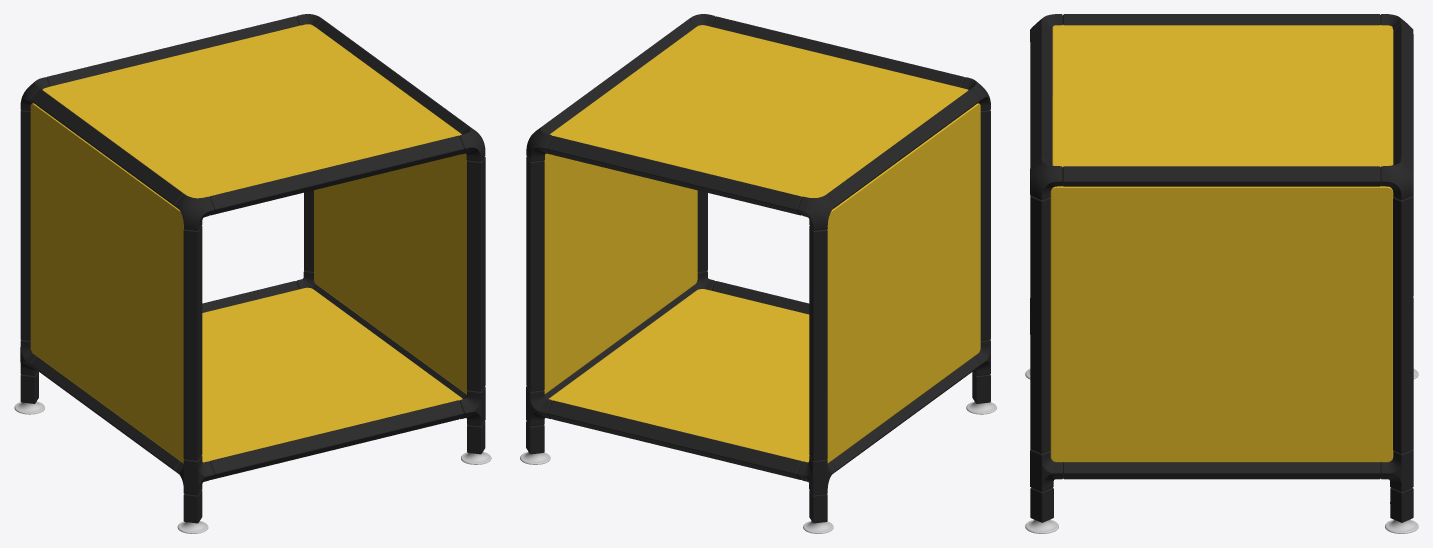
3 renders of one model, left to right at view 1: azimuth 30°, elevation 25°; view 2: azimuth 150°, elevation 25°; view 3: azimuth 270°, elevation 25°, orthographic. The views are drawn at different scales.
Parts seen in each view (by area): view 1: 374x374x329; view 2: 374x374x329; view 3: 374x374x329.
Boxes of the visible parts, x1=… form: 374x374x329: x1=14, y1=14, x2=491, y2=533; 374x374x329: x1=520, y1=14, x2=996, y2=533; 374x374x329: x1=1025, y1=14, x2=1418, y2=533.
Bounding box in the file's own units: 0.4639 × 0.4683 × 0.4632.
